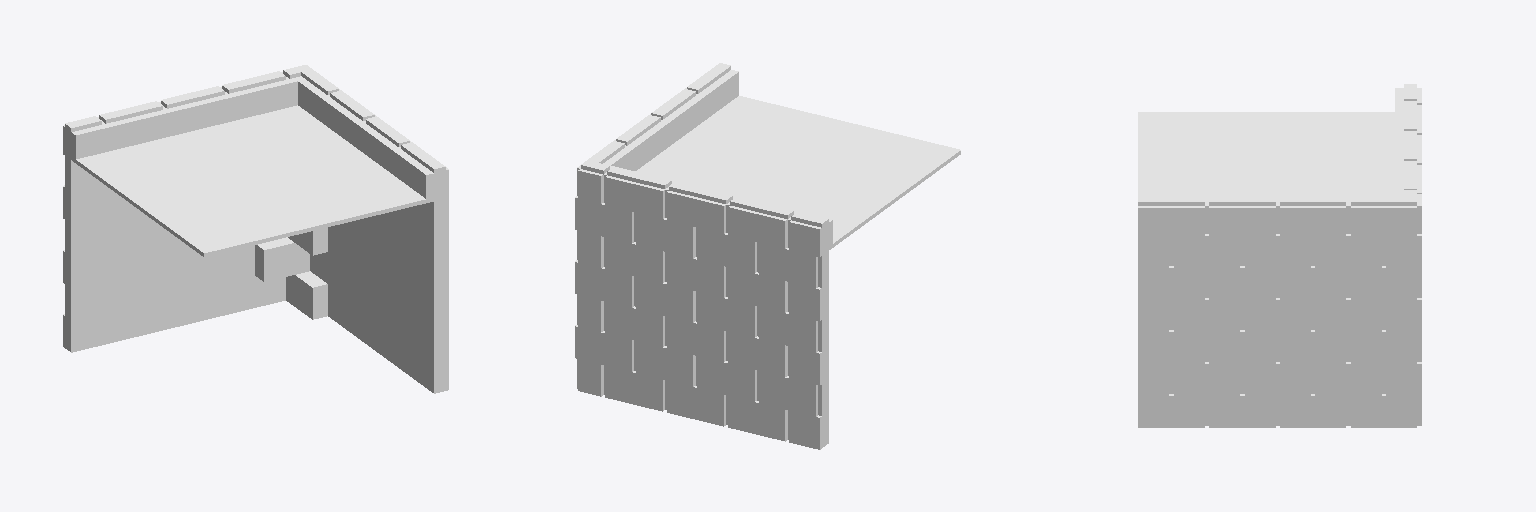
The model's file is dive_bar_wall_t_corner.obj.
The picture shows the model from 3 angles: view 1: azimuth 30°, elevation 25°; view 2: azimuth 150°, elevation 25°; view 3: azimuth 270°, elevation 25°; orthographic projection.
Bounding box in the file's own units: 64 × 56 × 64.